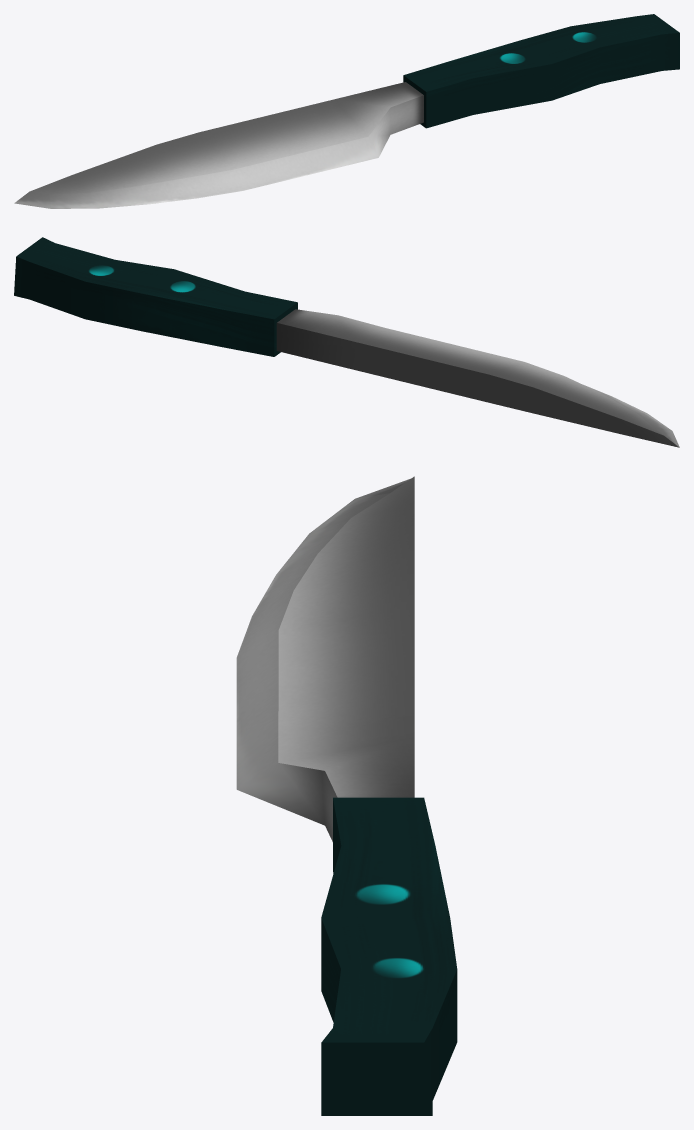
Rendered from WpMD_knife_0201.fbx.
3 views of the same model, one above another, from view 1: azimuth 30°, elevation 25°; view 2: azimuth 150°, elevation 25°; view 3: azimuth 270°, elevation 25° (orthographic). The views are drawn at different scales.
Visible parts, largest first — view 1: pCube4; view 2: pCube4; view 3: pCube4.
Boxes of the visible parts, <box> form: pCube4: <box>14,14,679,208</box>; pCube4: <box>14,237,679,447</box>; pCube4: <box>236,476,457,1115</box>.
Bounding box in the file's own units: 20.49 × 1.12 × 3.05.
1 material, 1 textured.
